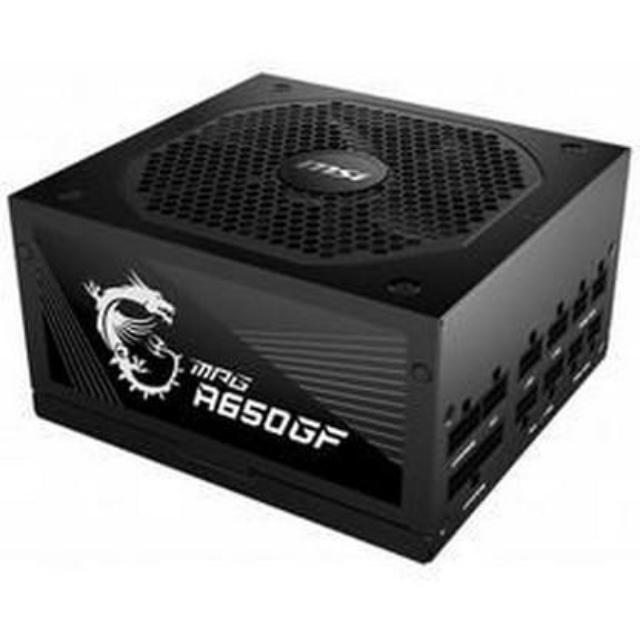PSU: (0, 70, 629, 572)
